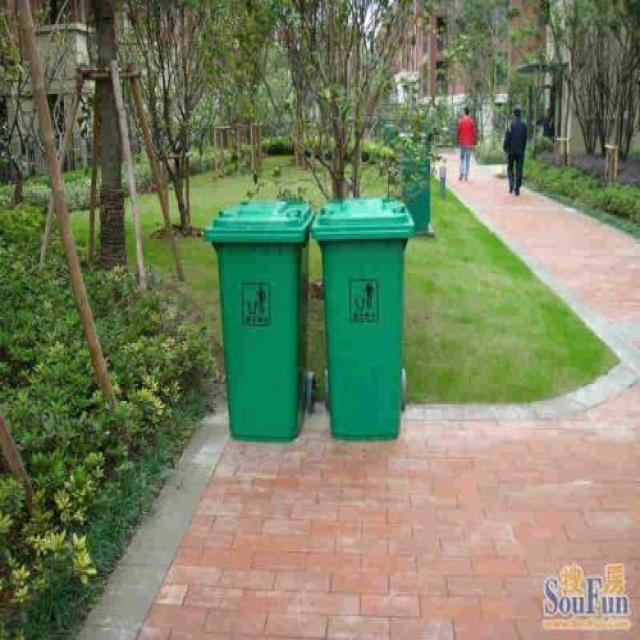garbage_bin: (201, 198, 312, 440), (310, 194, 413, 440)
